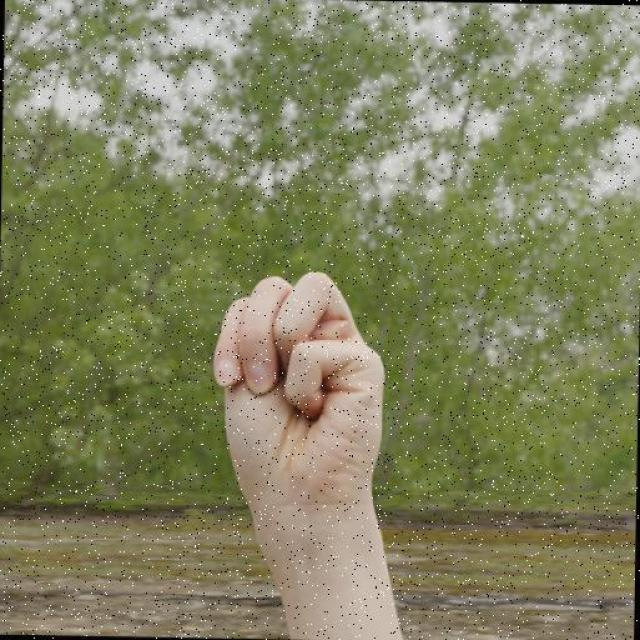M: (208, 268, 391, 518)
